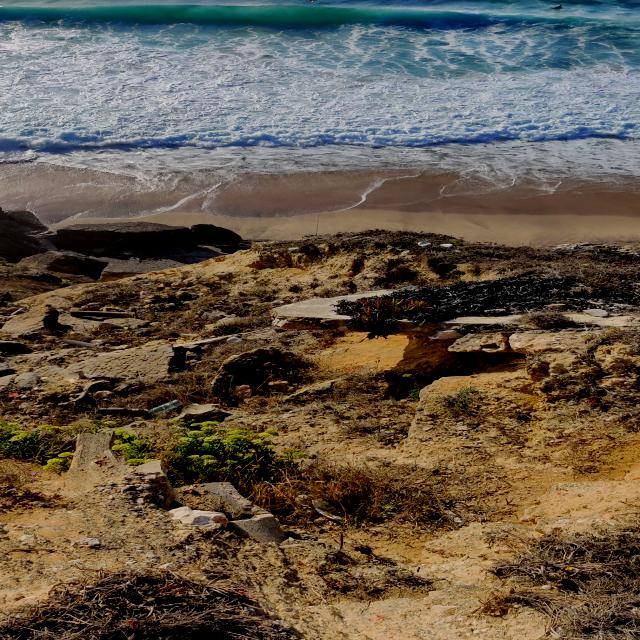Clear plastic bottle: (147, 400, 181, 415)
Drink can: (417, 241, 433, 247), (439, 244, 456, 248)
Glass bottle: (98, 407, 144, 414)
Unlabeled litter: (312, 498, 344, 520)
